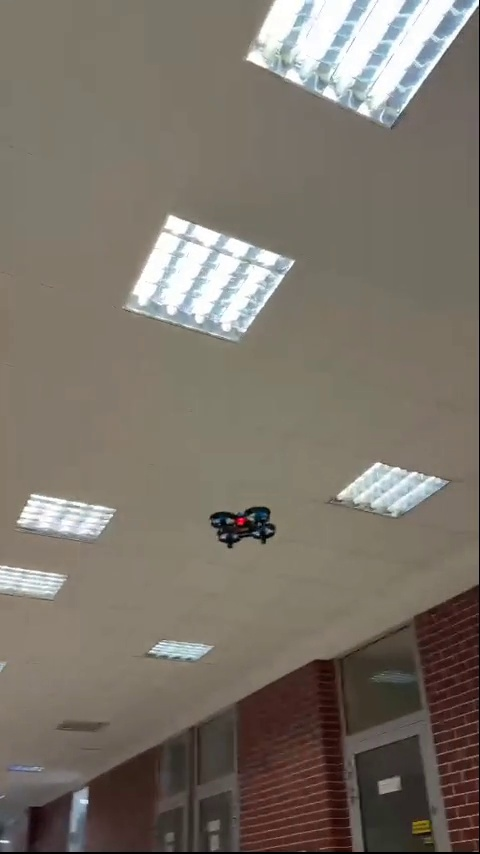drone: (210, 506, 277, 544)
